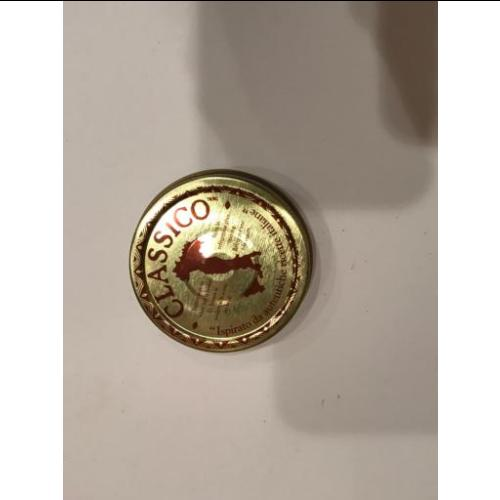metal: (130, 169, 312, 353)
